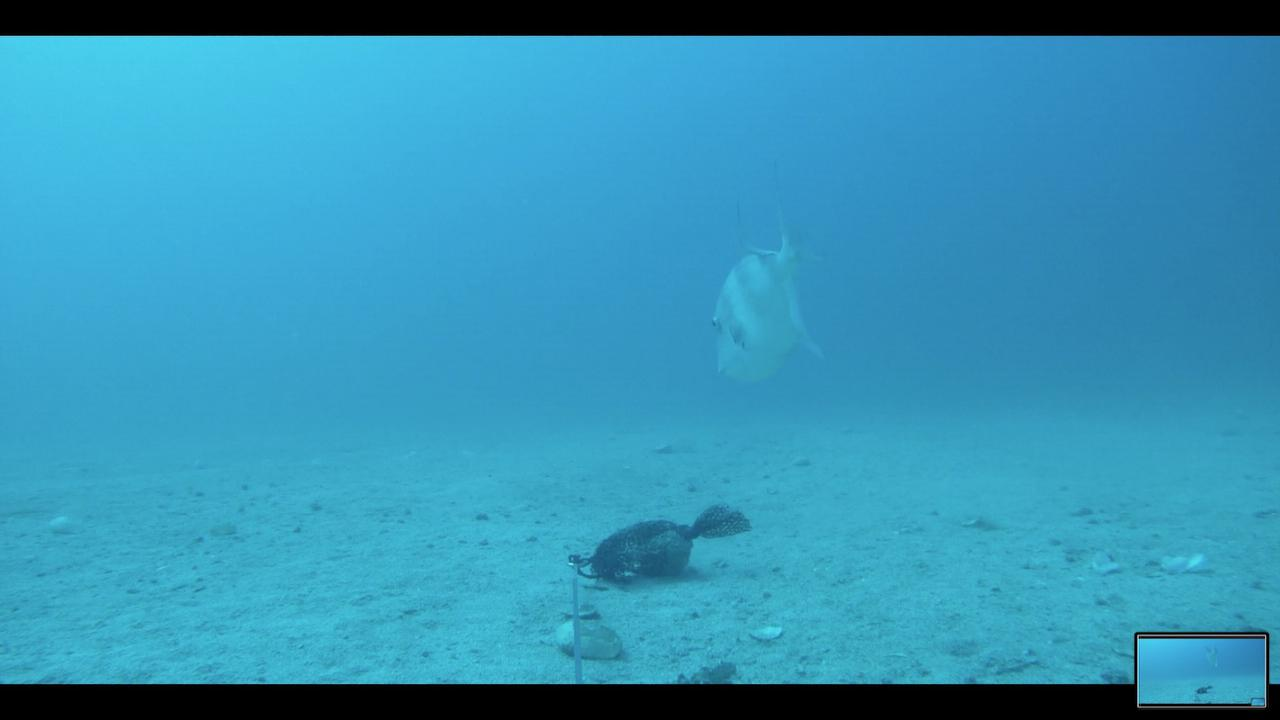balistes: (696, 152, 830, 384)
